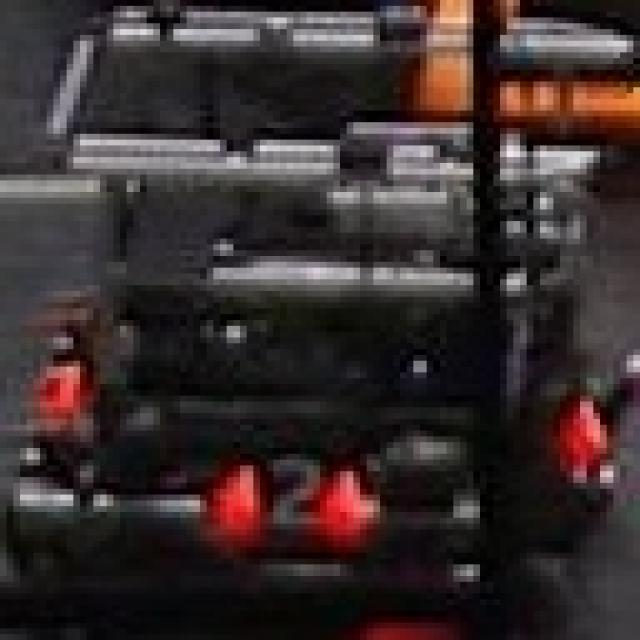R2: (206, 448, 366, 541)
